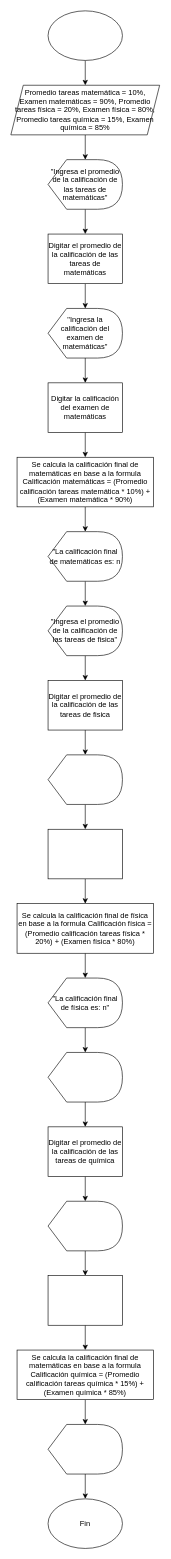
Image size: 171x1559. Some labels were removed from this diagram. Here are the shapes that lost their labels. From the top down, the centre of each, then its label:
pixel 84 35: Inicio
pixel 84 779: "Ingresa la calificación del examen de fisica"
pixel 84 854: Digitar la calificación del examen de fisica
pixel 84 1077: "Ingresa el promedio de la calificación de las tareas de química"
pixel 84 1226: "Ingresa la calificación del examen de química"
pixel 84 1300: Digitar la calificación del examen de química
pixel 84 1449: "La calificación final de química es: n"
